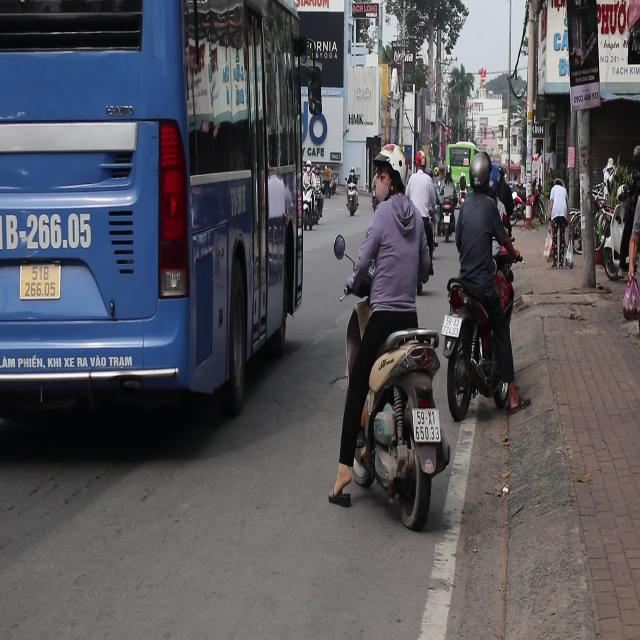bus: (0, 0, 307, 451), (446, 142, 482, 192)
car: (304, 185, 323, 227)
motorbike: (353, 318, 453, 530), (445, 280, 537, 414), (597, 179, 637, 282), (505, 194, 524, 233), (442, 209, 454, 239), (346, 188, 358, 216)
